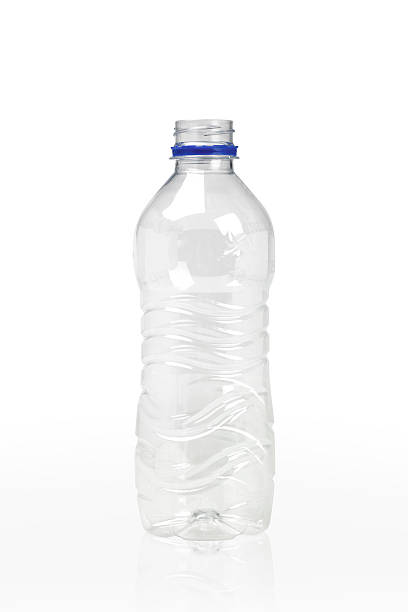HDPE Ring: (171, 145, 236, 155)
PET Bottle: (133, 118, 275, 540)
